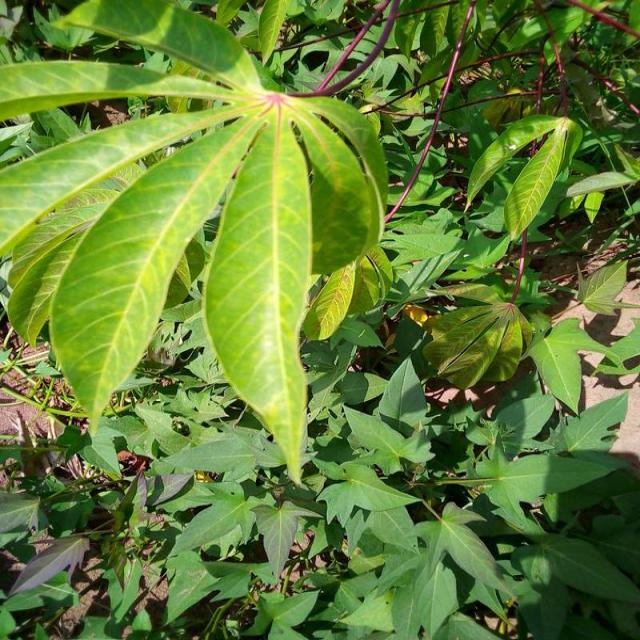cassava leaf: (2, 0, 393, 485), (48, 108, 266, 438), (202, 100, 315, 486)
